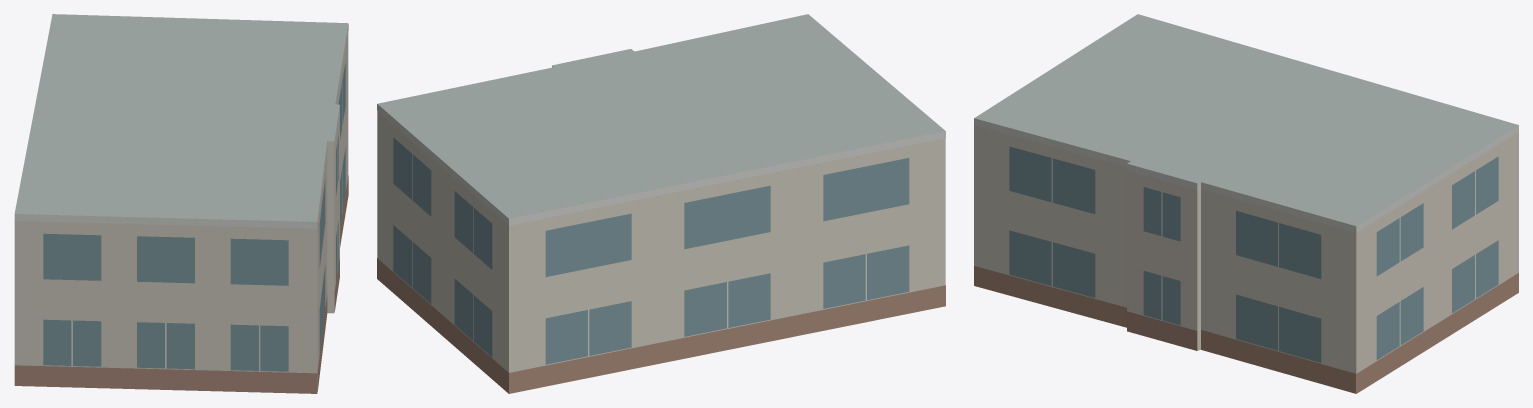
Rendered from survey-upis-33010406.glb.
3 renders of one model, left to right at view 1: azimuth 30°, elevation 25°; view 2: azimuth 150°, elevation 25°; view 3: azimuth 270°, elevation 25°, orthographic. The views are drawn at different scales.
Visible parts, largest first — view 1: survey-upis-33010406.tmp; view 2: survey-upis-33010406.tmp; view 3: survey-upis-33010406.tmp.
Boxes of the visible parts, left/top/right/bottom form: survey-upis-33010406.tmp: left=14, top=14, right=348, bottom=393; survey-upis-33010406.tmp: left=377, top=14, right=945, bottom=393; survey-upis-33010406.tmp: left=974, top=14, right=1518, bottom=393.
Size of the model in its own units: 16.57 by 6.1 by 17.97.
